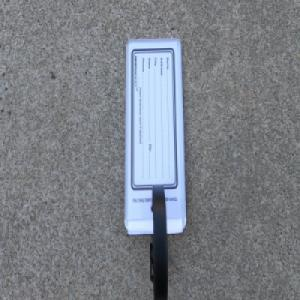LuggageTag: (123, 37, 189, 300)
